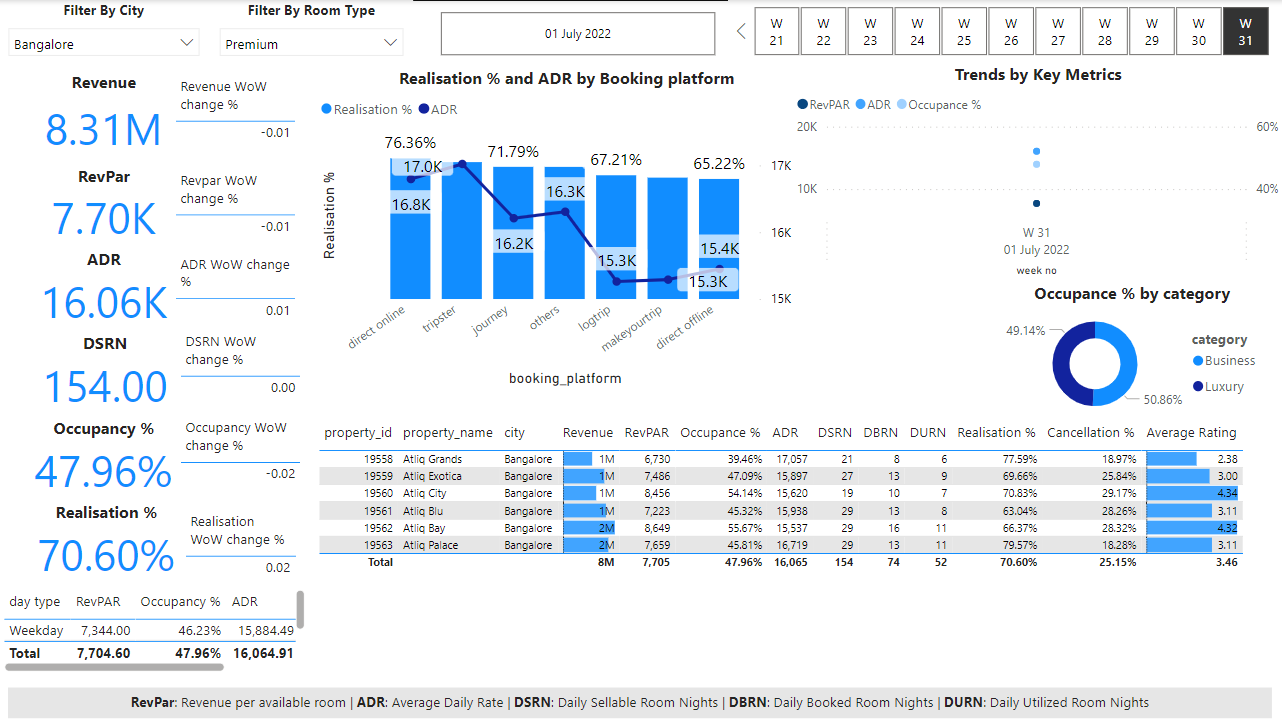

What the dashboard file says about the page in this screenshot:
{"tool":"powerbi","page":{"name":"Page 1","canvas":[1280,720],"ordinal":0},"visuals":[{"type":"tableEx","fields":{"Values":["dim_hotels.property_id","dim_hotels.property_name","dim_hotels.city","key_measures.Revenue","key_measures.RevPAR","key_measures.Occupance %","key_measures.ADR","key_measures.DSRN","key_measures.DBRN","key_measures.DURN","key_measures.Realisation %","key_measures.Cancellation %"]},"box":[310.9,411.3,969.5,268.1],"z":0},{"type":"slicer","title":"Filter By City","fields":{"Values":["dim_hotels.city"]},"box":[0,0,209.3,61.2],"z":1000},{"type":"slicer","title":"Filter By Room Type","fields":{"Values":["dim_rooms.room_class"]},"box":[209.3,0,202,61.2],"z":2000},{"type":"slicer","fields":{"Values":["dim_date.mmm yy"]},"box":[411.3,4.9,321.9,56.3],"z":3000},{"type":"slicer","fields":{"Values":["dim_date.week no"]},"box":[722.2,0,558.2,61.2],"z":4000},{"type":"card","title":"Revenue","fields":{"Values":["key_measures.Revenue"]},"box":[0,69.8,209.3,91.8],"z":5000},{"type":"card","title":"RevPar","fields":{"Values":["key_measures.RevPAR"]},"box":[0,161.6,209.3,83.2],"z":7000},{"type":"card","title":"DSRN","fields":{"Values":["key_measures.DSRN"]},"box":[1.2,328.1,209.3,83.2],"z":8000},{"type":"donutChart","fields":{"Category":["dim_hotels.category"],"Y":["key_measures.Occupance %"]},"box":[984.2,277.9,275.4,142],"z":8500},{"type":"card","title":"Occupancy %","fields":{"Values":["key_measures.Occupance %"]},"box":[0,411.3,209.3,83.2],"z":9000},{"type":"card","title":"ADR","fields":{"Values":["key_measures.ADR"]},"box":[0,244.8,209.3,83.2],"z":10000},{"type":"lineClusteredColumnComboChart","title":"Realisation % and ADR by Booking platform","fields":{"Y":["key_measures.Realisation %"],"Category":["fact_bookings.booking_platform"],"Y2":["key_measures.ADR"]},"box":[313.4,66.1,497,320.7],"z":11000},{"type":"lineChart","title":"Trends by Key Metrics","fields":{"Category":["dim_date.mmm yy","dim_date.week no"],"Y":["key_measures.RevPAR","key_measures.ADR"],"Y2":["key_measures.Occupance %"]},"box":[784.6,61.2,487.2,216.7],"z":12000},{"type":"tableEx","fields":{"Values":["dim_date.day_type","key_measures.RevPAR","key_measures.Occupance %","key_measures.ADR","key_measures.Realisation %"]},"box":[0,577.8,308.5,90.6],"z":13000},{"type":"card","title":"Realisation %","fields":{"Values":["key_measures.Realisation %"]},"box":[2.4,494.5,209.3,83.2],"z":14000},{"type":"tableEx","fields":{"Values":["key_measures.Revenue WoW change %"]},"box":[168.9,69.8,139.5,78.3],"z":15000},{"type":"tableEx","fields":{"Values":["key_measures.Revpar WoW change %"]},"box":[168.9,161.6,139.5,78.3],"z":16000},{"type":"tableEx","fields":{"Values":["key_measures.ADR WoW change %"]},"box":[168.9,244.8,139.5,78.3],"z":17000},{"type":"tableEx","fields":{"Values":["key_measures.DSRN WoW change %"]},"box":[173.8,320.7,139.5,78.3],"z":18000},{"type":"tableEx","fields":{"Values":["key_measures.Occupancy WoW change %"]},"box":[173.8,406.4,139.5,78.3],"z":19000},{"type":"tableEx","fields":{"Values":["key_measures.Realisation WoW change %"]},"box":[178.7,499.4,129.8,78.3],"z":20000},{"type":"textbox","box":[9.8,679.4,1249.8,30.6],"z":20001}]}

Visuals, with their boxes in screenshot pixels (x1, y1, x2, y2), scaled from the page's 1280x720 canvas onto the 1282x722 screenshot:
tableEx - dim_hotels.property_id x dim_hotels.property_name: 311, 412, 1281, 681
"Filter By City" slicer: 0, 0, 210, 61
"Filter By Room Type" slicer: 210, 0, 412, 61
slicer - dim_date.mmm yy: 412, 5, 734, 61
slicer - dim_date.week no: 723, 0, 1281, 61
"Revenue" card: 0, 70, 210, 162
"RevPar" card: 0, 162, 210, 245
"DSRN" card: 1, 329, 211, 412
donutChart - dim_hotels.category x key_measures.Occupance %: 986, 279, 1262, 421
"Occupancy %" card: 0, 412, 210, 496
"ADR" card: 0, 245, 210, 329
"Realisation % and ADR by Booking platform" lineClusteredColumnComboChart: 314, 66, 812, 388
"Trends by Key Metrics" lineChart: 786, 61, 1274, 279
tableEx - dim_date.day_type x key_measures.RevPAR: 0, 579, 309, 670
"Realisation %" card: 2, 496, 212, 579
tableEx - key_measures.Revenue WoW change %: 169, 70, 309, 149
tableEx - key_measures.Revpar WoW change %: 169, 162, 309, 241
tableEx - key_measures.ADR WoW change %: 169, 245, 309, 324
tableEx - key_measures.DSRN WoW change %: 174, 322, 314, 400
tableEx - key_measures.Occupancy WoW change %: 174, 408, 314, 486
tableEx - key_measures.Realisation WoW change %: 179, 501, 309, 579
textbox: 10, 681, 1262, 712
